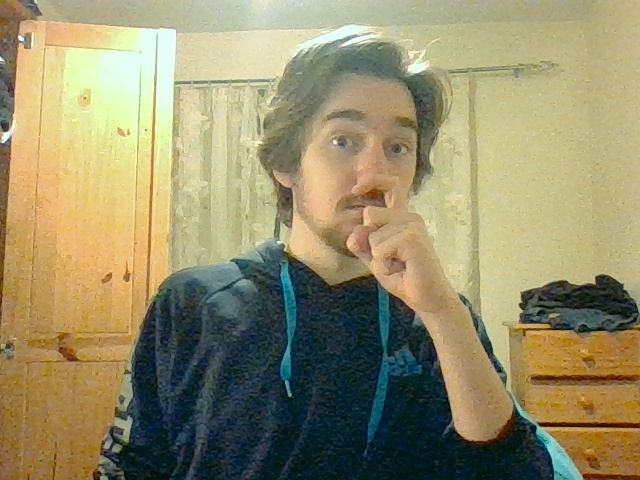sister: (345, 171, 423, 276)
